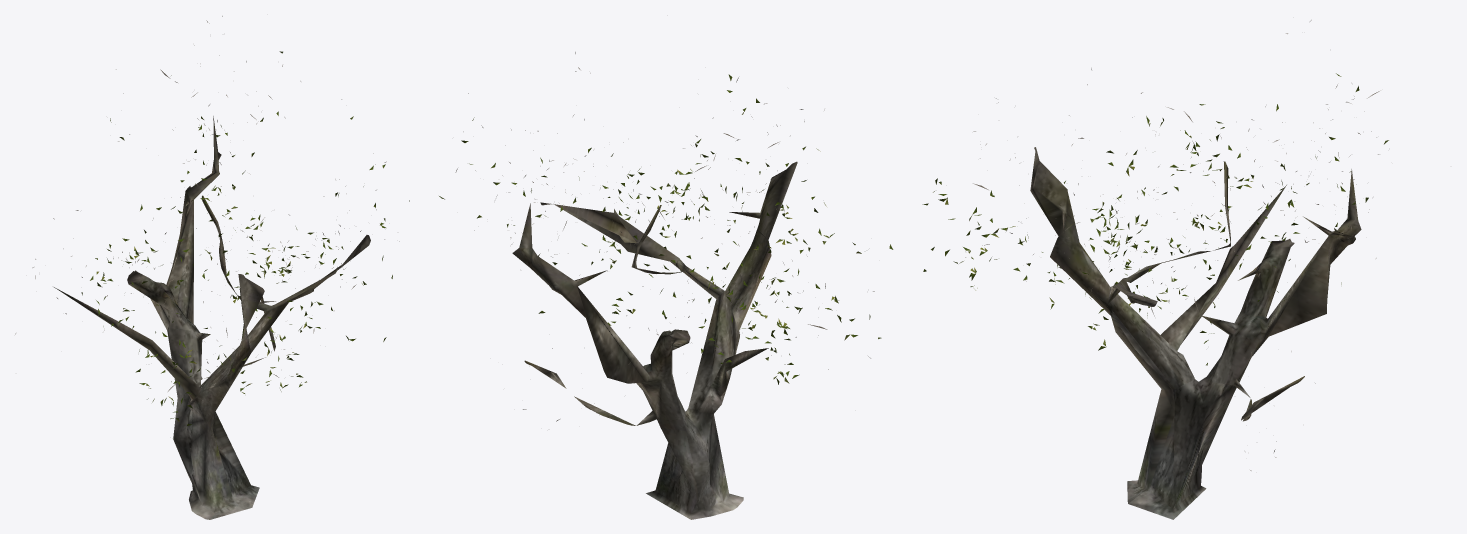
The model's file is island1_lod2.glb.
3 views of the same model, side by side, from view 1: azimuth 30°, elevation 25°; view 2: azimuth 150°, elevation 25°; view 3: azimuth 270°, elevation 25° (orthographic). The views are drawn at different scales.
Parts seen in each view (by area): view 1: island_tree_01_LOD0; view 2: island_tree_01_LOD0; view 3: island_tree_01_LOD0.
Part boxes in pixels (<box>): island_tree_01_LOD0: <box>15,16,409,519</box>; island_tree_01_LOD0: <box>439,52,893,519</box>; island_tree_01_LOD0: <box>922,20,1388,519</box>.
Bounding box in the file's own units: 4.42 × 4.89 × 4.56.
Materials: 3 (3 with a texture image).
